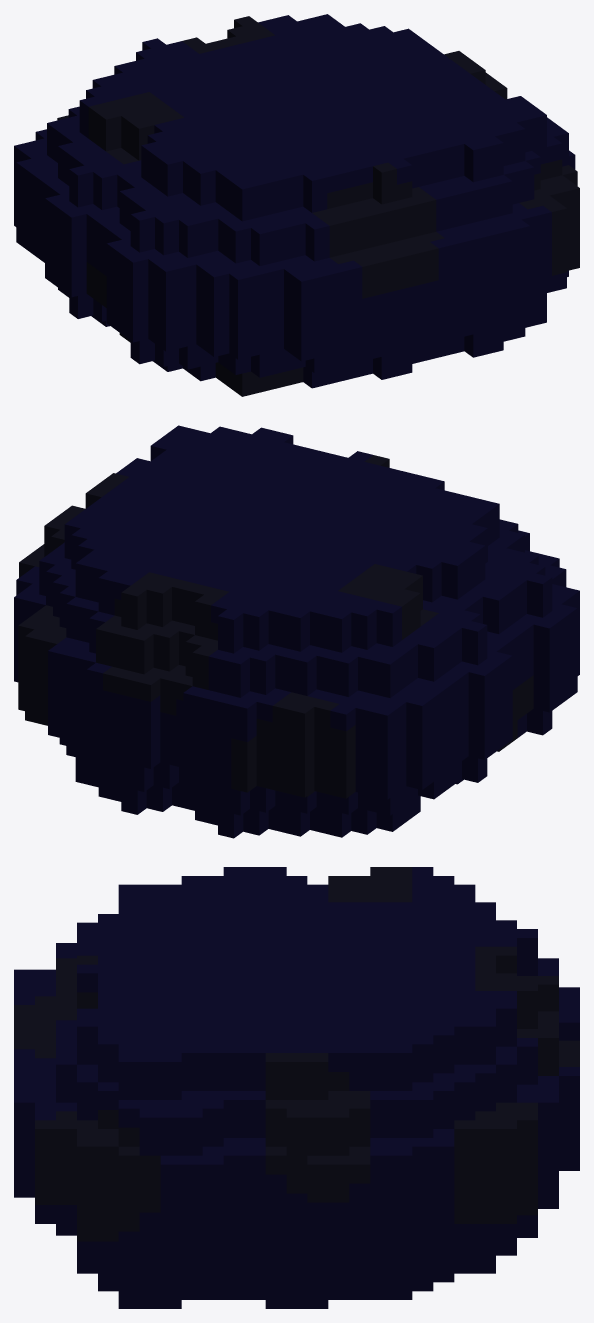
File: Menu-3.obj
The picture shows the model from 3 angles, top to bottom: view 1: azimuth 30°, elevation 25°; view 2: azimuth 150°, elevation 25°; view 3: azimuth 270°, elevation 25°; orthographic projection. The views are drawn at different scales.
Size of the model in its own units: 2.9 by 1.3 by 2.7.
Materials: 1 (1 with a texture image).
